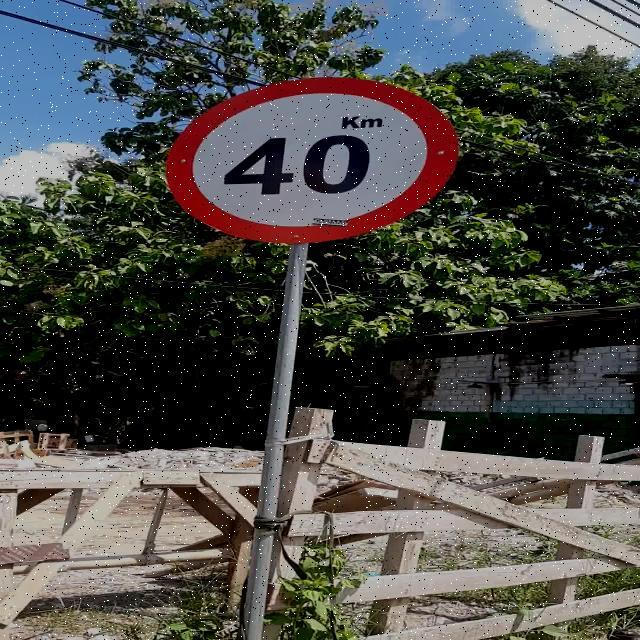Kecepatan Maks. 40 km: (166, 76, 460, 245)
